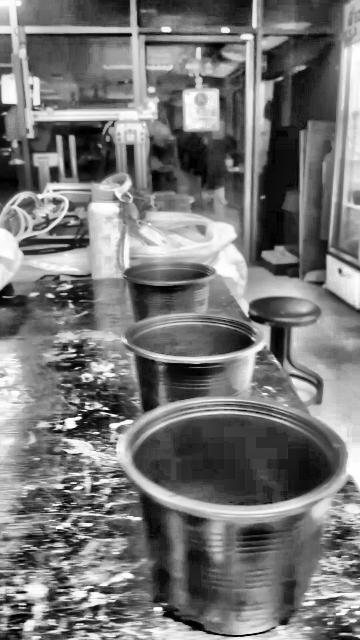pot: (124, 400, 348, 632), (124, 314, 263, 412), (123, 261, 215, 321)
